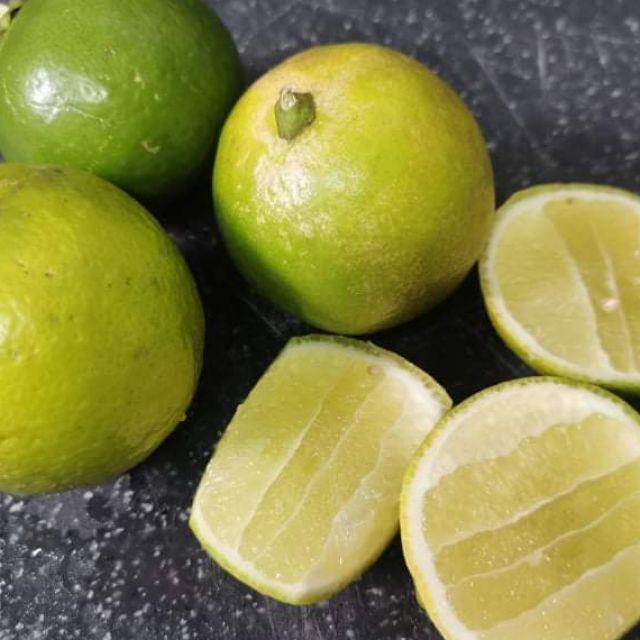lime: (210, 25, 506, 345), (0, 151, 210, 506), (0, 0, 252, 206)
